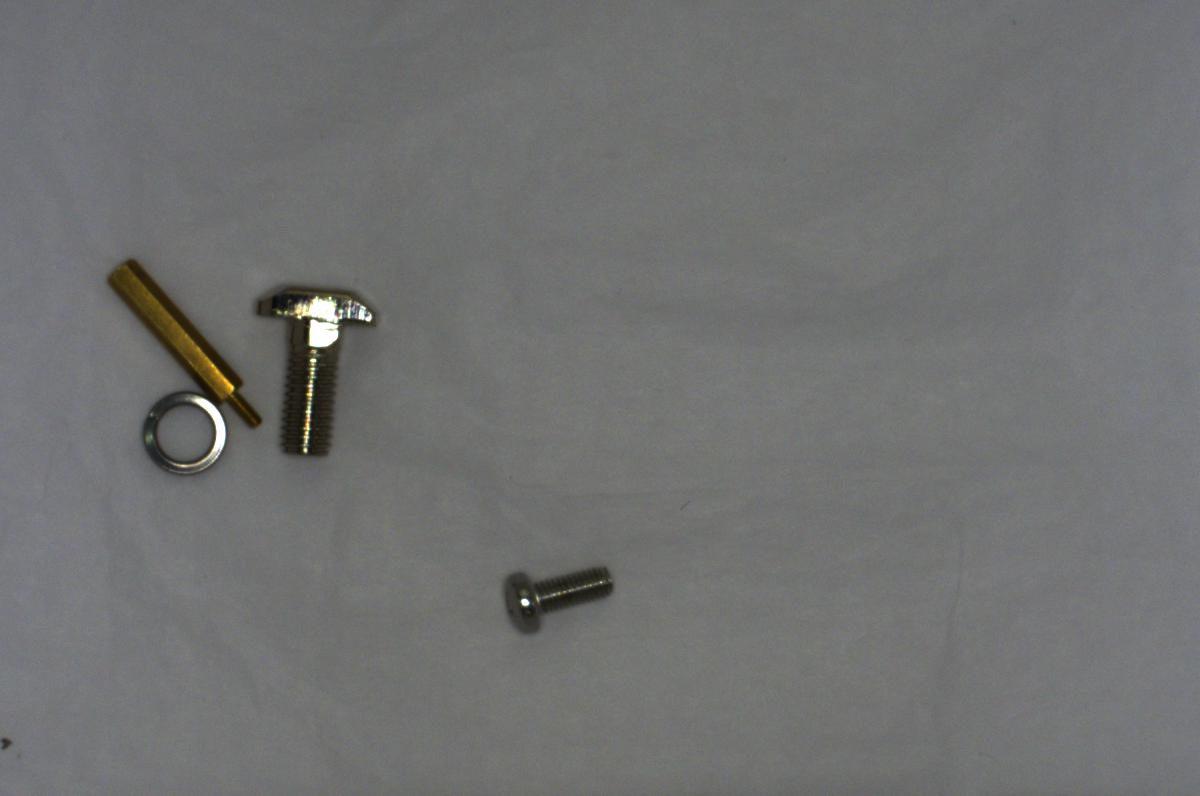Hexagon pillar: (99, 256, 258, 432)
Round head screw: (491, 553, 621, 636)
Spring washer: (132, 382, 228, 479)
T-shaped screw: (242, 278, 379, 473)
